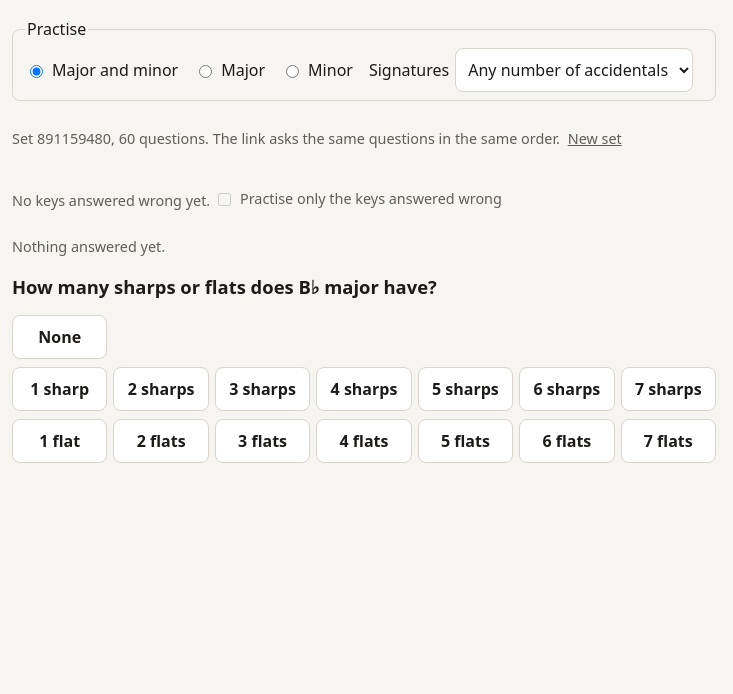
Test: KeyQuiz: how many? › says what is right after a wrong answer, and does not score it
This screenshot has width=733, height=694.
Step 1. Click the button "7 sharps" → (668,389), box top-left (621, 367), bottom-right (716, 411)
(page scrolled)
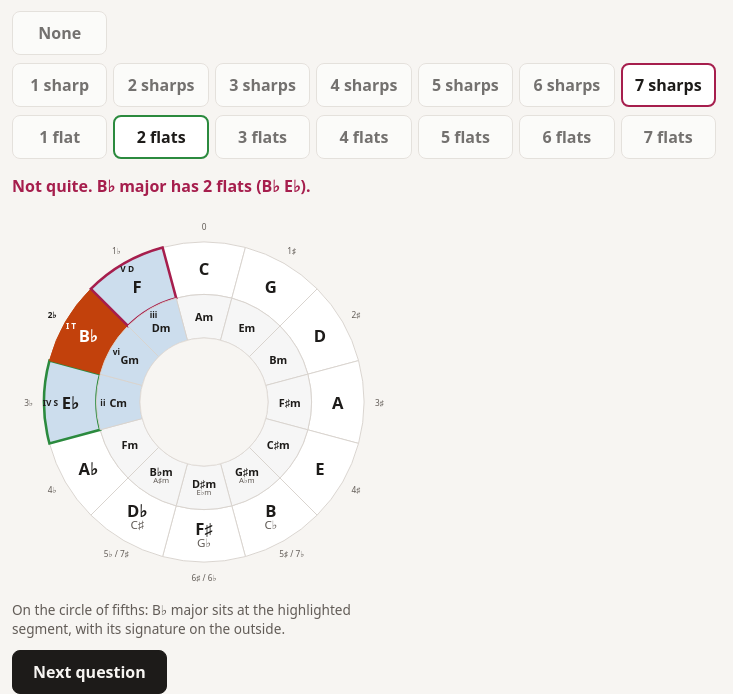
Result: the message shows "Not quite." at top-left (12, 175), bottom-right (92, 197)
